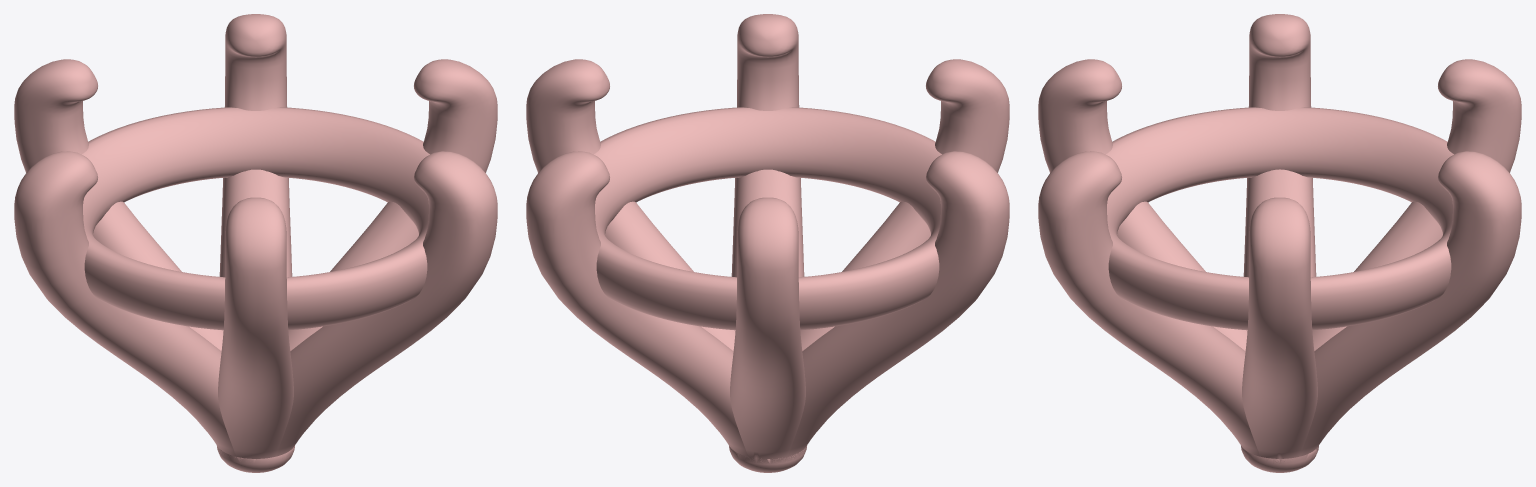
File: 6 PRONG.glb
The picture shows the model from 3 angles, left to right: view 1: azimuth 30°, elevation 25°; view 2: azimuth 150°, elevation 25°; view 3: azimuth 270°, elevation 25°; orthographic projection.
Parts seen in each view (by area): view 1: 6 PRONG; view 2: 6 PRONG; view 3: 6 PRONG.
Part boxes in pixels (x1,y1,x2,y2): 6 PRONG: (14, 14, 497, 472); 6 PRONG: (526, 14, 1009, 472); 6 PRONG: (1038, 14, 1521, 472).
Size of the model in its own units: 6.2 by 4.48 by 5.51.
